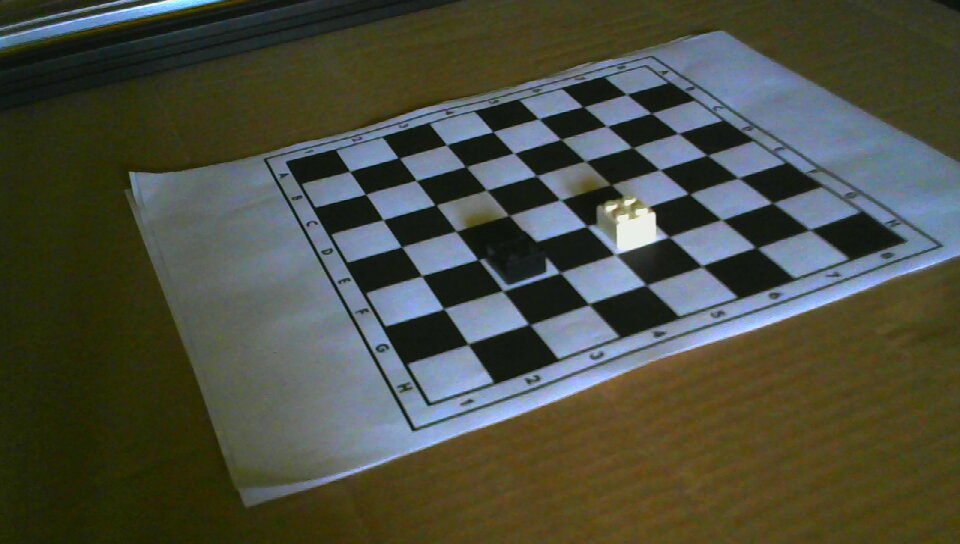bp: (485, 232, 546, 283)
wp: (598, 194, 658, 247)
